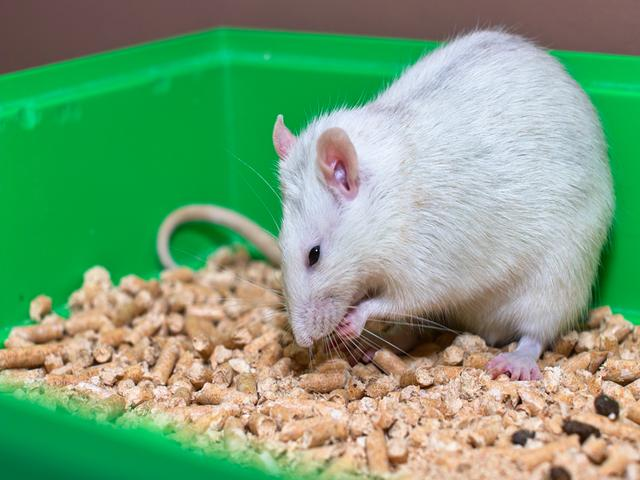mouse: (230, 13, 618, 388)
